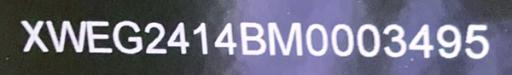letter: (46, 15, 86, 54), (267, 20, 307, 57), (112, 19, 142, 56), (435, 20, 463, 59), (18, 20, 50, 53), (236, 21, 266, 56), (328, 21, 356, 58), (408, 22, 436, 59), (211, 20, 237, 59), (84, 19, 112, 54), (166, 21, 192, 56), (382, 23, 408, 58), (305, 21, 329, 58), (357, 21, 381, 58), (142, 21, 166, 56), (190, 21, 210, 54)
